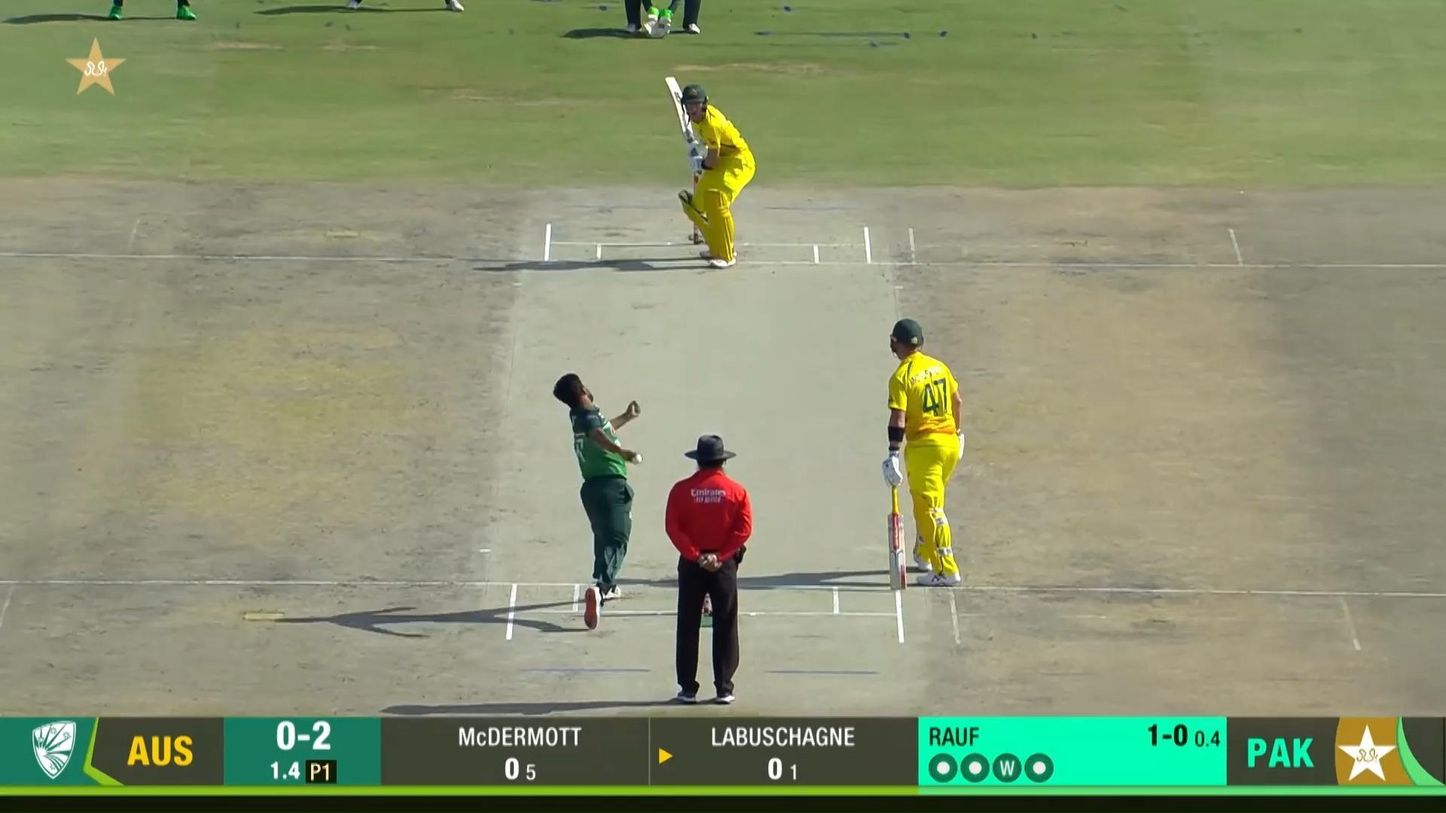BM 1: (663, 76, 756, 269)
BO: (551, 371, 649, 631)
